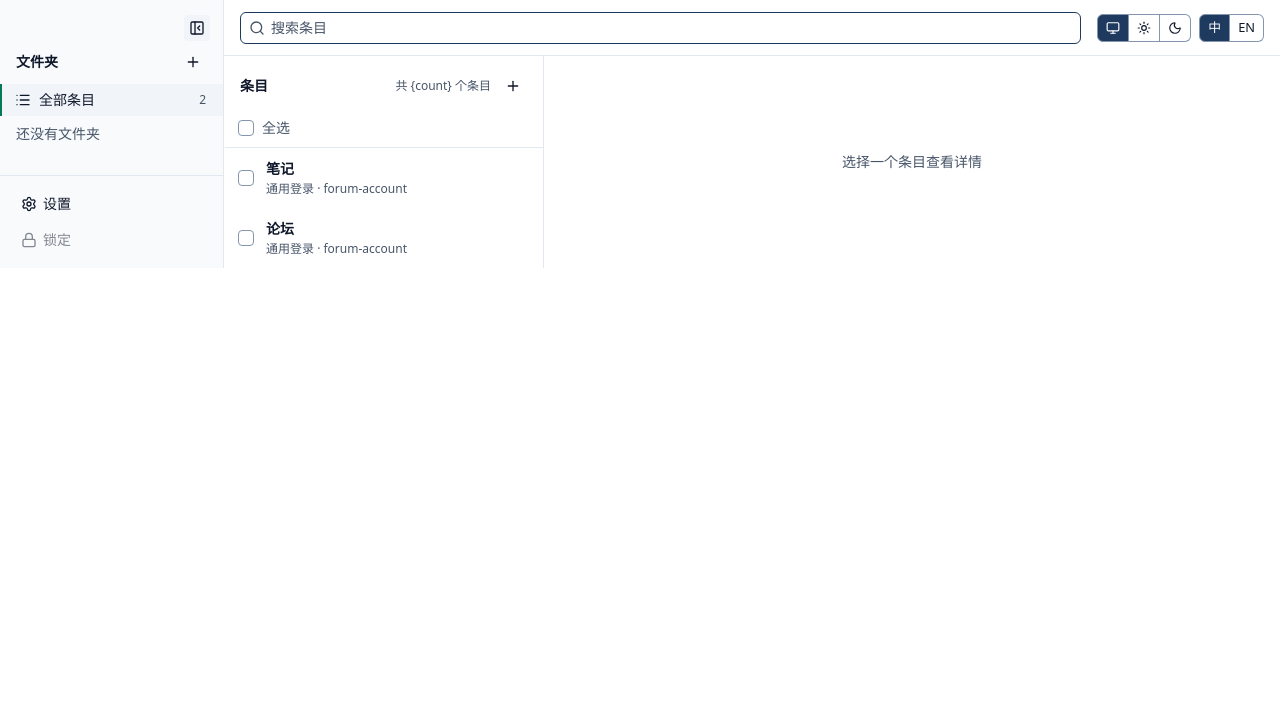
Test case: 工作区里的 Markdown 备注 › 新建时选 Markdown 保存, 详情立即按 Markdown 渲染
Click the button named "新建条目". click: (513, 86)
box: [499,72,527,100]
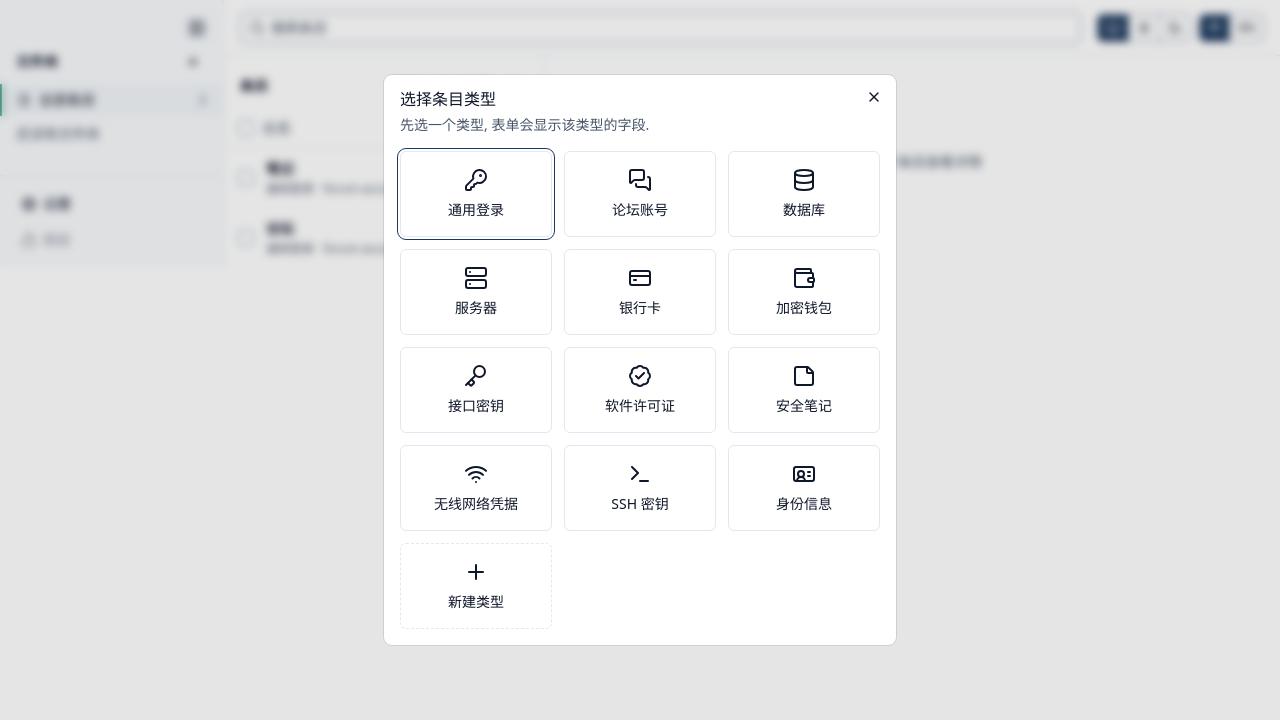
Click the button "通用登录". click: (476, 194)
box: [400,151,552,237]
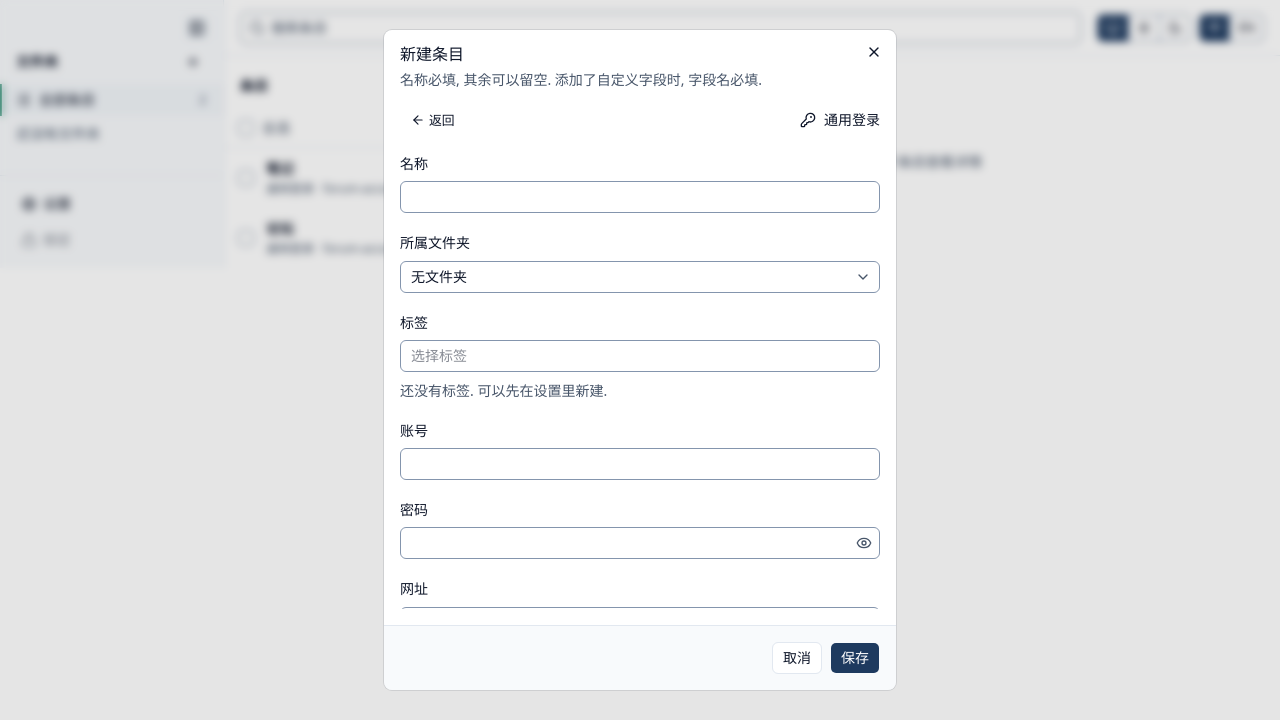
Type "新备忘" into the field labelled "名称". click: (640, 197)
box: [400,181,880,213]
(page scrolled)
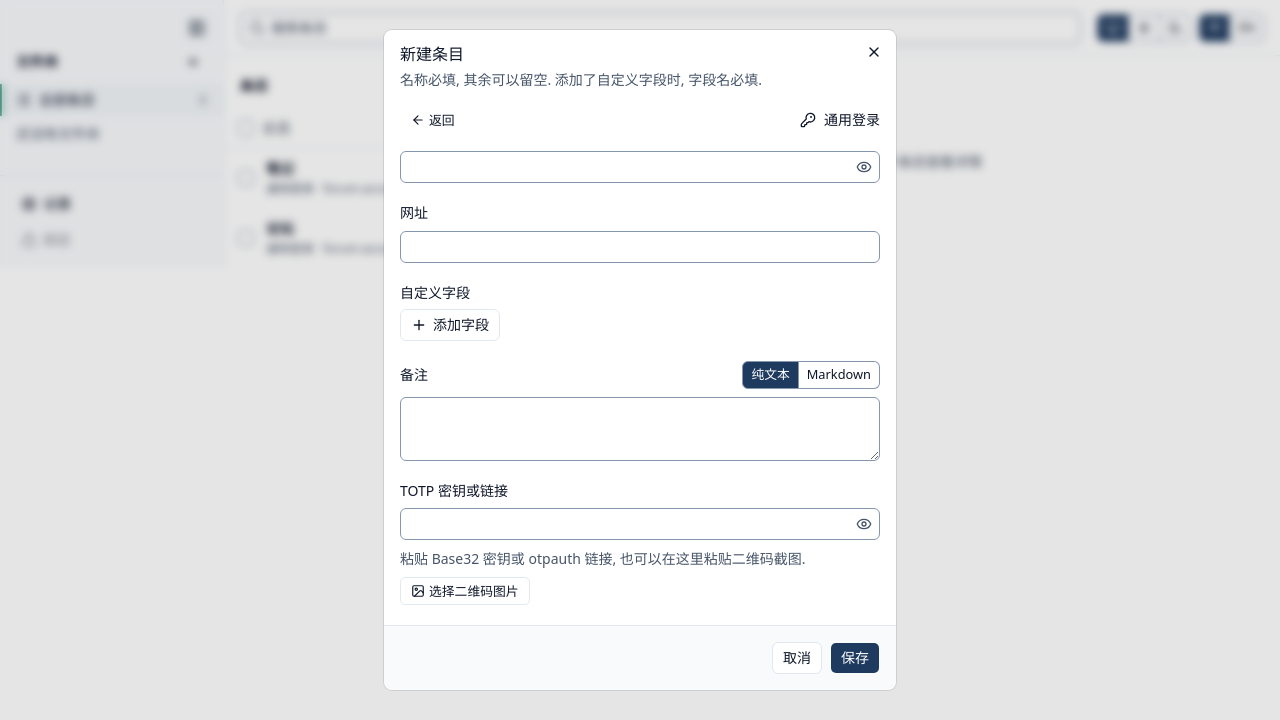
Type "## 新标题" into the text box labelled "备注". click: (640, 428)
box: [400,396,880,460]
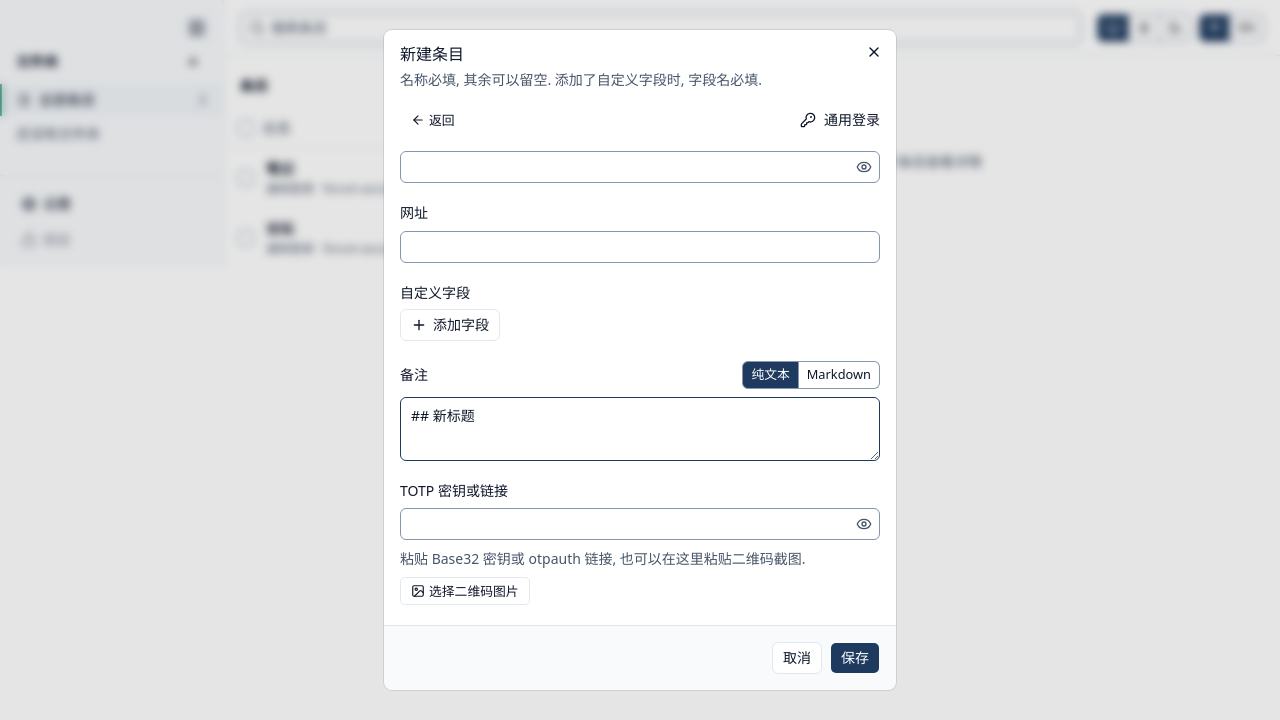
Click the button "Markdown". click: (839, 374)
box: [799,360,880,388]
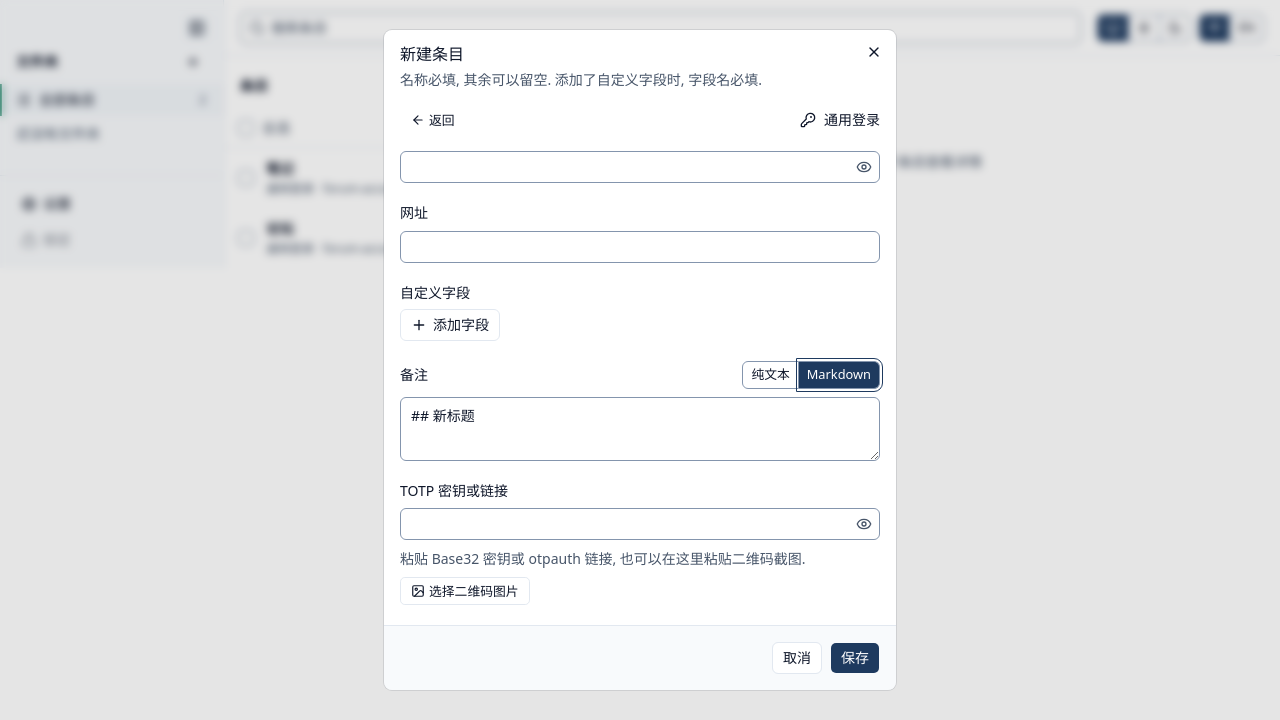
Click the button "保存". click: (855, 658)
box: [830,642,880,674]
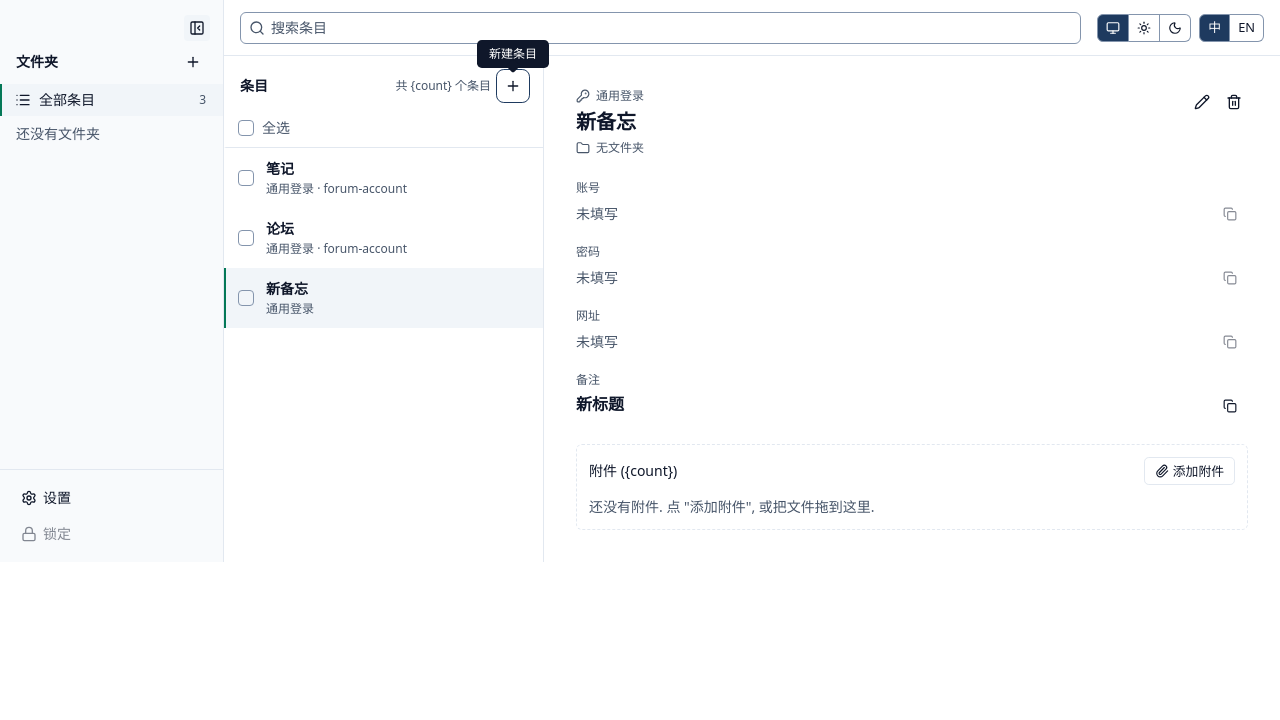
expect the heading "新标题" is shown: met, box [576,393,624,415]
